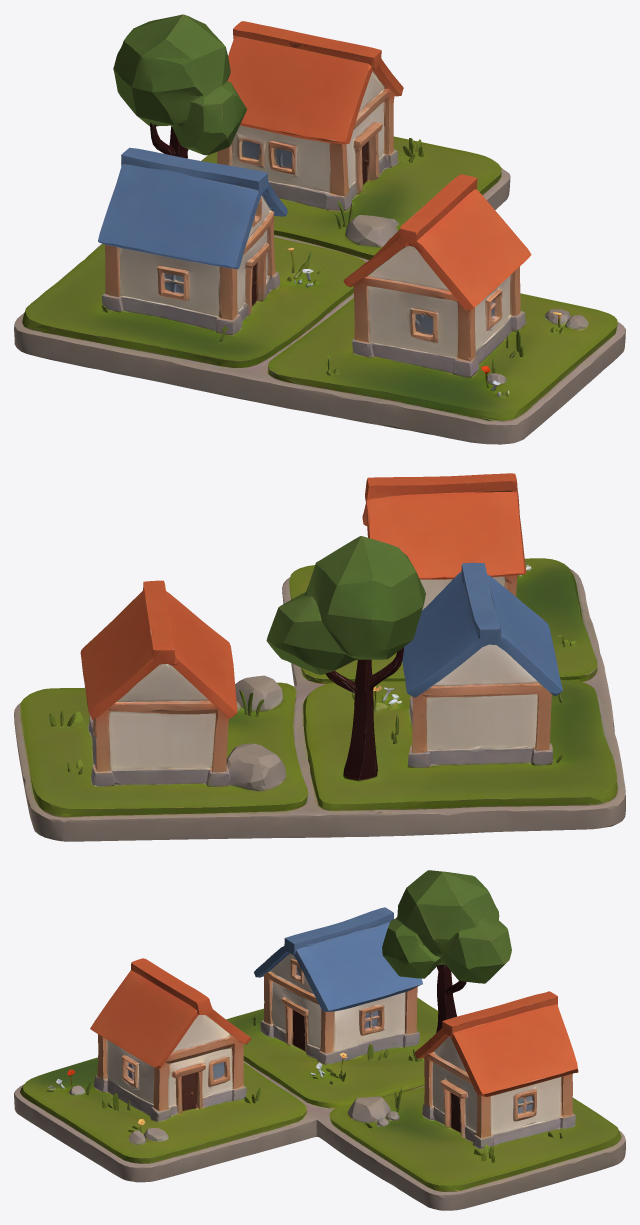
File: residence_02.fbx
3 views of the same model, one above another, from view 1: azimuth 30°, elevation 25°; view 2: azimuth 150°, elevation 25°; view 3: azimuth 270°, elevation 25° (orthographic). The views are drawn at different scales.
Parts seen in each view (by area): view 1: model; view 2: model; view 3: model.
Part boxes in pixels (x1,y1,x2,y2): model: [14, 14, 625, 444]; model: [14, 473, 625, 841]; model: [14, 870, 625, 1210].
Size of the model in its own units: 156 by 72.03 by 190.
1 material, 1 textured.
